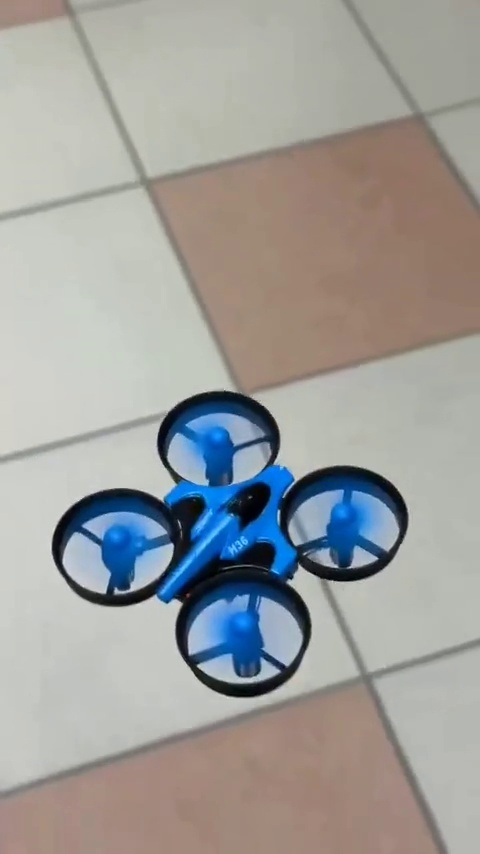drone: (47, 393, 417, 698)
